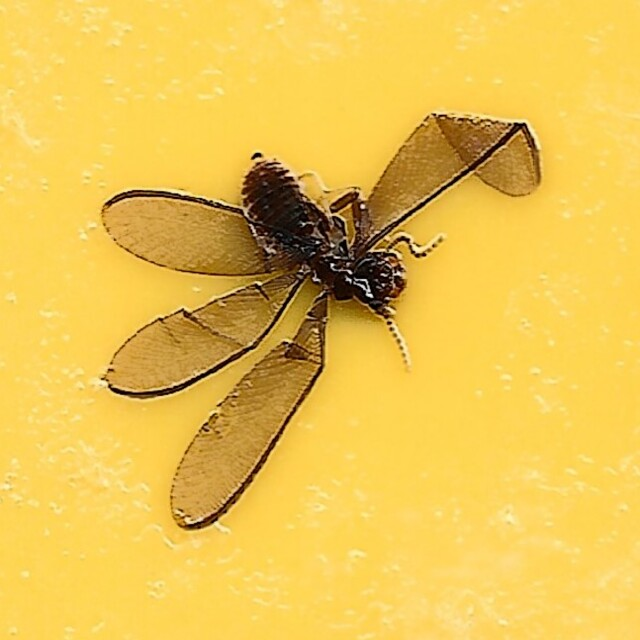Isoptera: (99, 112, 541, 528)
